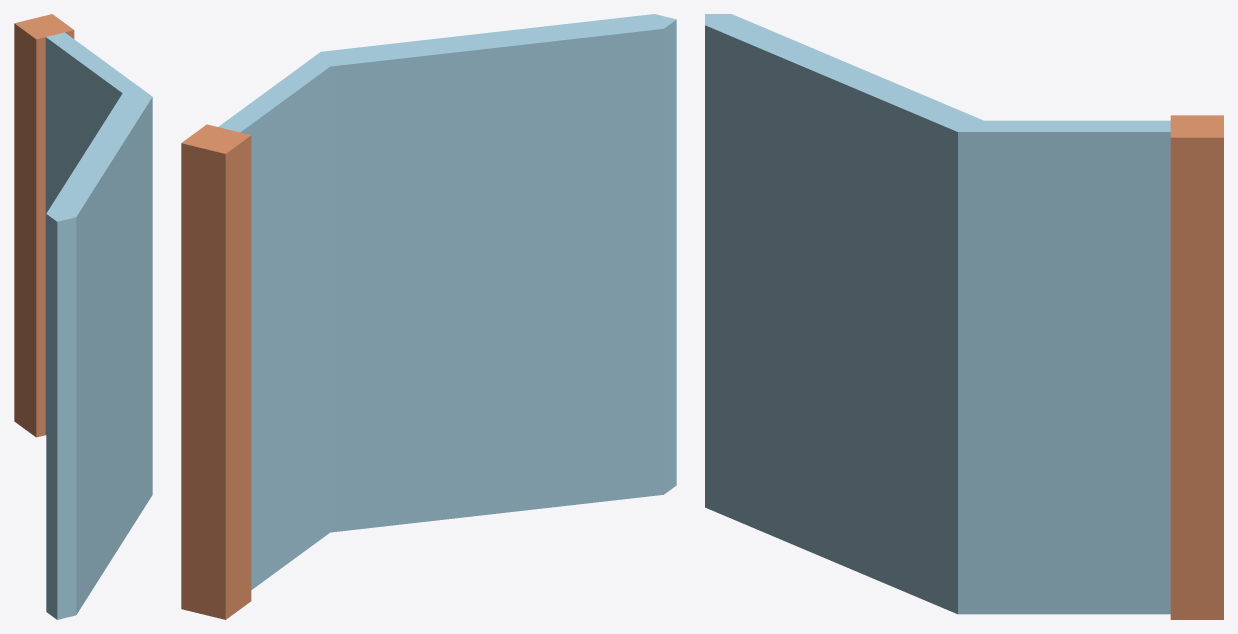
Rendered from wallCornerDiagonalHalf.fbx.
3 views of the same model, side by side, from view 1: azimuth 30°, elevation 25°; view 2: azimuth 150°, elevation 25°; view 3: azimuth 270°, elevation 25° (orthographic). The views are drawn at different scales.
Parts seen in each view (by area): view 1: wallCornerDiagonalHalf; view 2: wallCornerDiagonalHalf; view 3: wallCornerDiagonalHalf.
Boxes of the visible parts, box(x1,y1,x2,y2) form: wallCornerDiagonalHalf: box(14, 14, 152, 619); wallCornerDiagonalHalf: box(181, 14, 676, 619); wallCornerDiagonalHalf: box(705, 14, 1223, 619).
Bounding box in the file's own units: 5.5 × 10 × 9.75.
